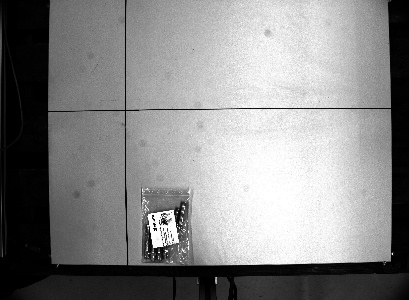t2: (139, 183, 195, 266)
